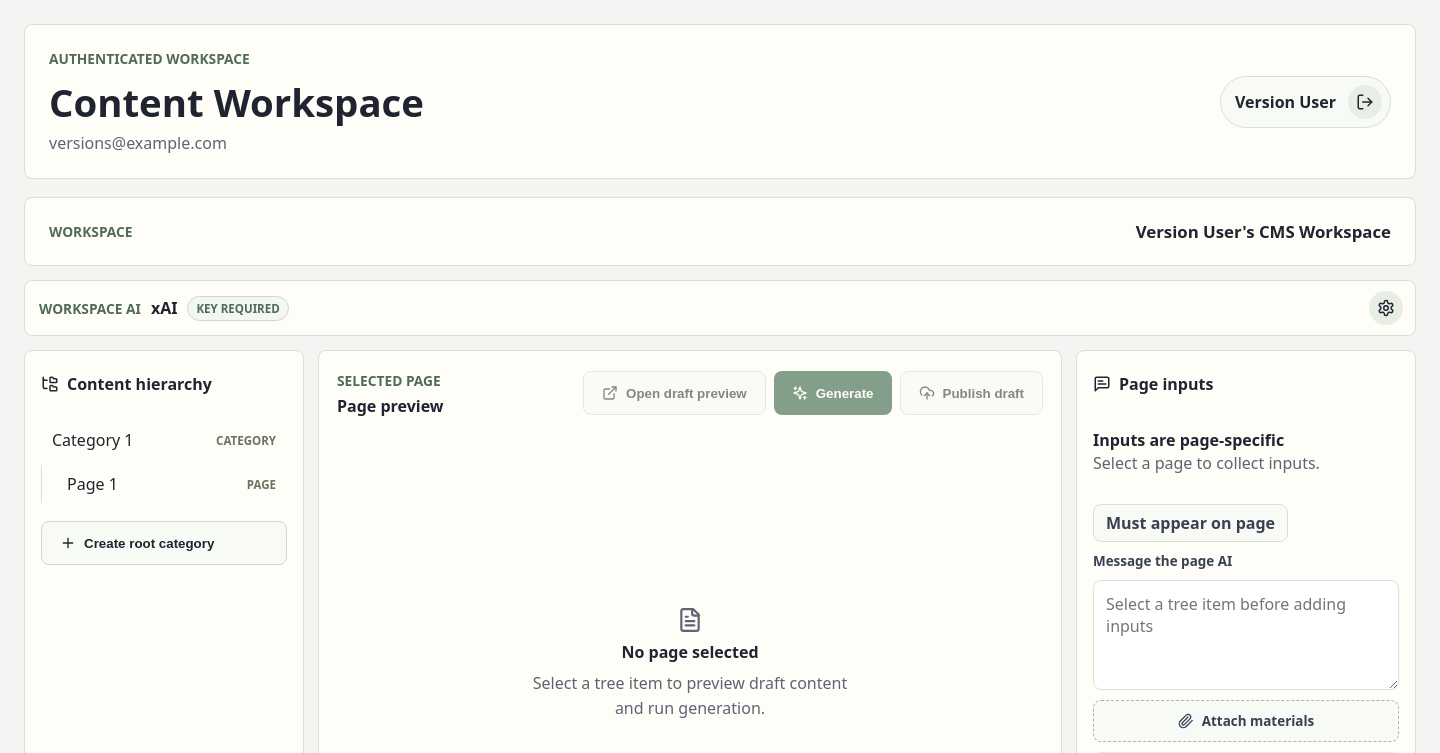
Scenario: version navigation › shows published versions, indicates active version, and opens versions without overwriting draft
The width and height of the screenshot is (1440, 753).
Click the button "Page 1 page". click: (172,484)
box: [56,465,287,503]
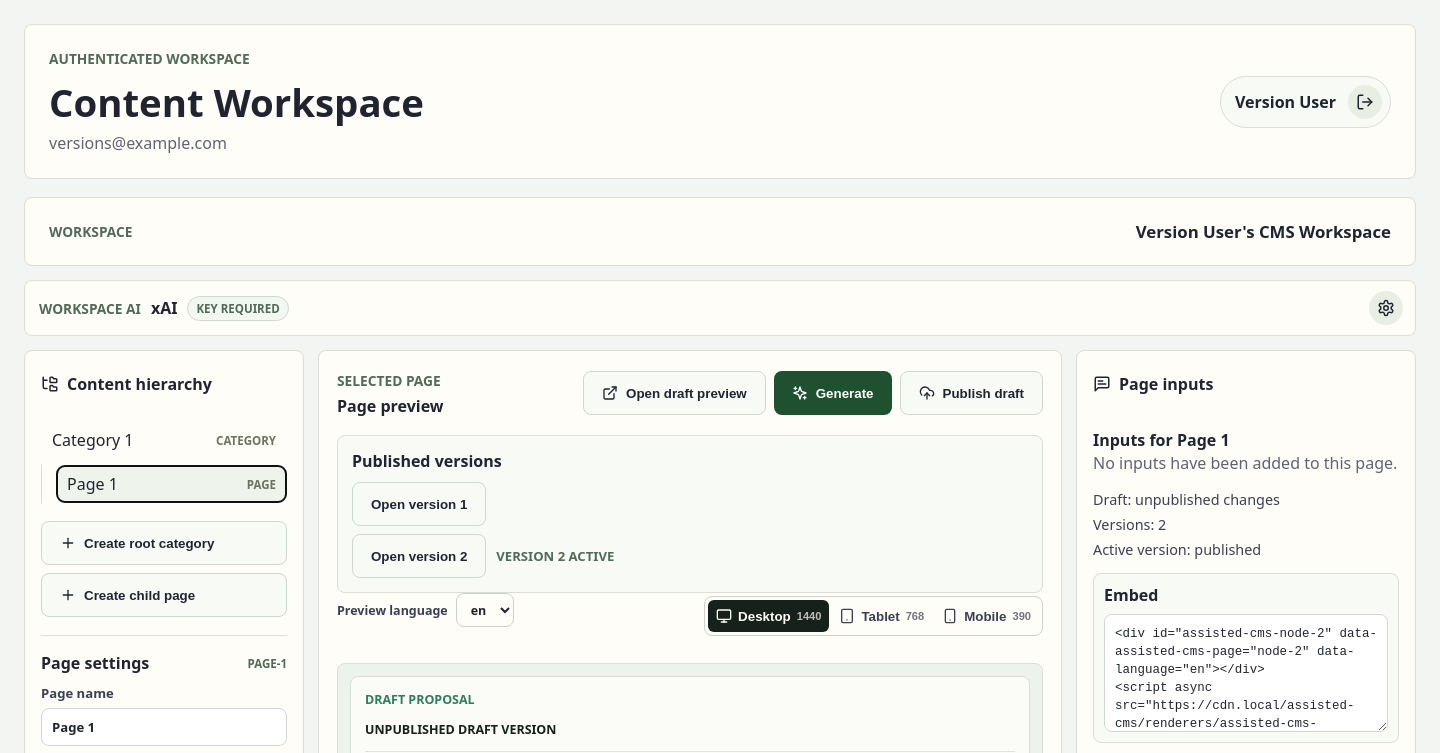
Now the list item "Versions: 2" is shown, box [1093,515,1166,534]
Now the heading "Unpublished draft version" is shown, box [365,721,556,738]
Now the text "Version 2 active" is shown, box [496,547,614,565]
Click the button "Open version 1". click: (419,504)
box: [352,482,486,526]
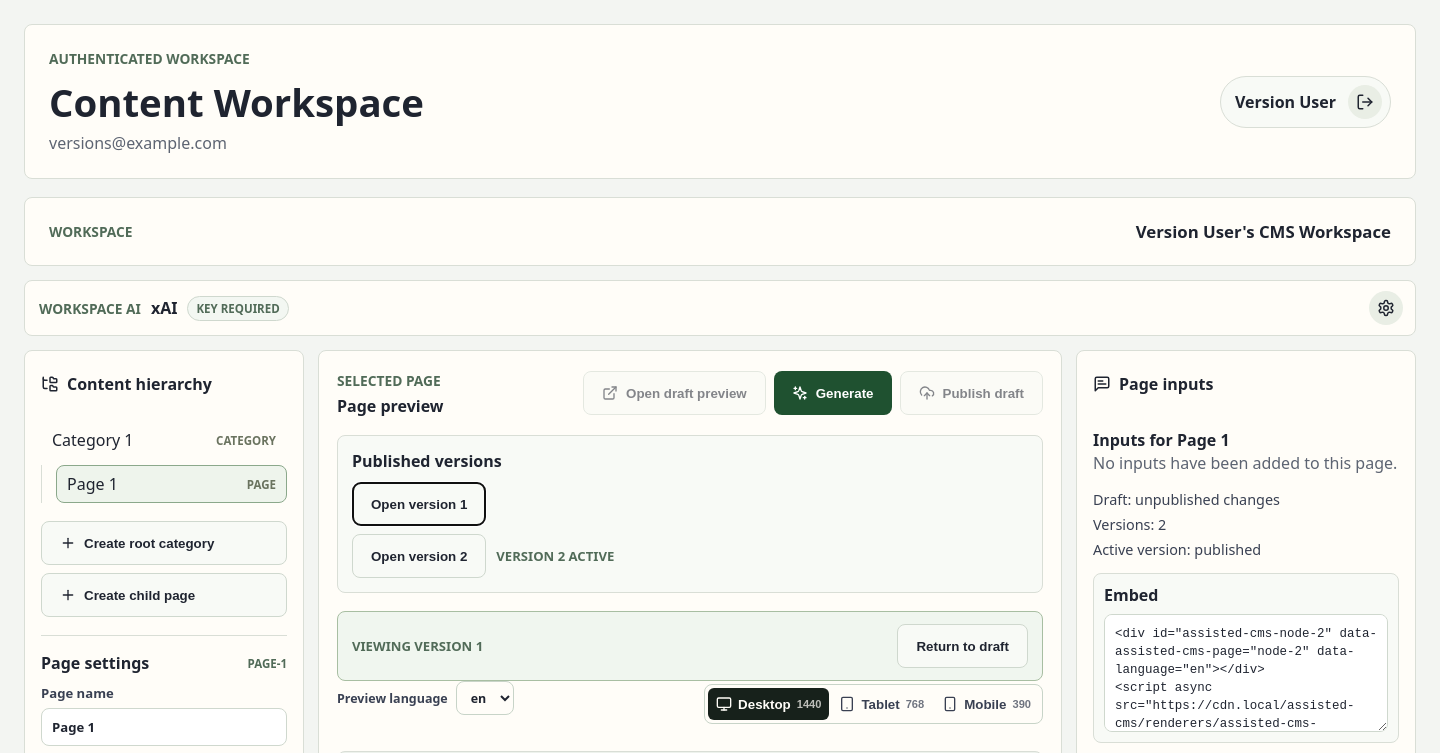
Now the text "Viewing version 1" is shown, box [352,637,483,655]
Click the button "Return to draft". click: (963,646)
box: [897,624,1028,668]
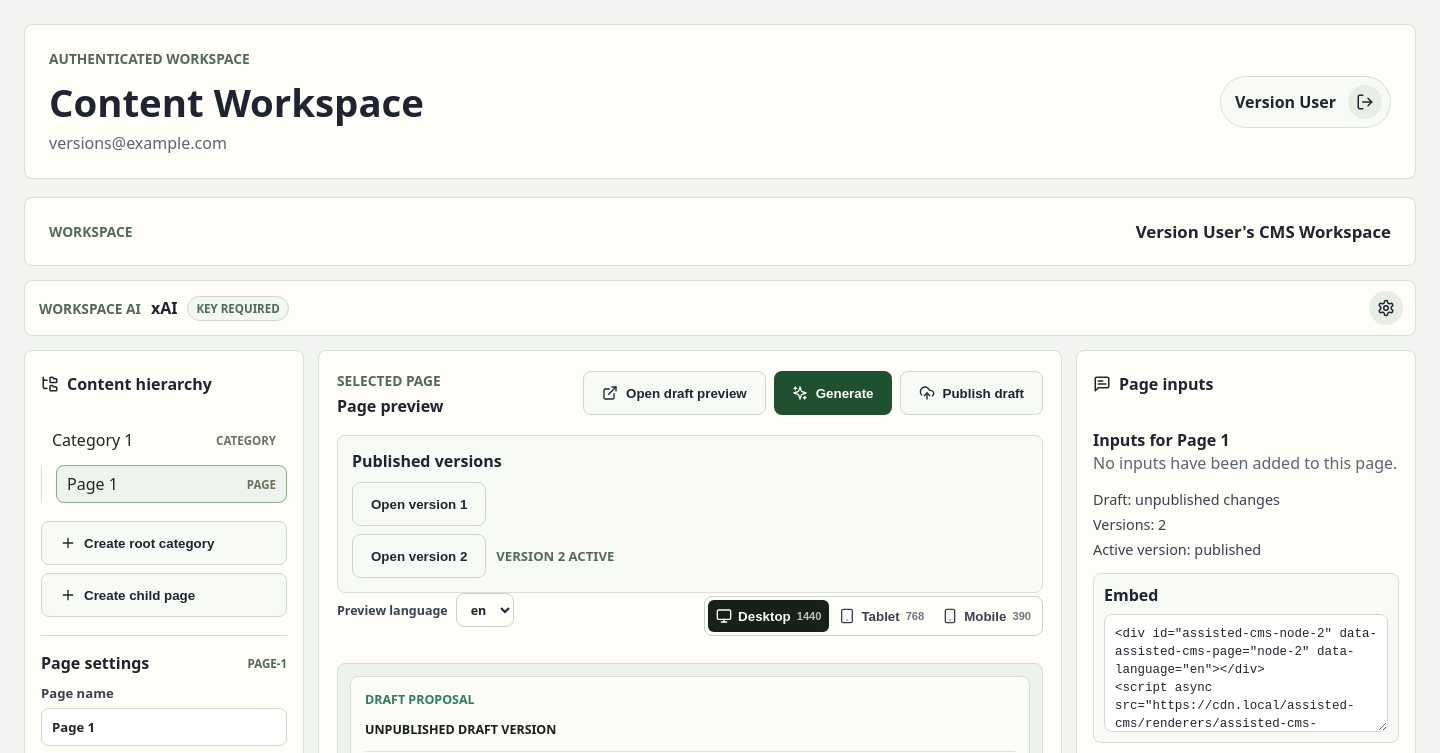
Now the heading "Unpublished draft version" is shown, box [365,721,556,738]
